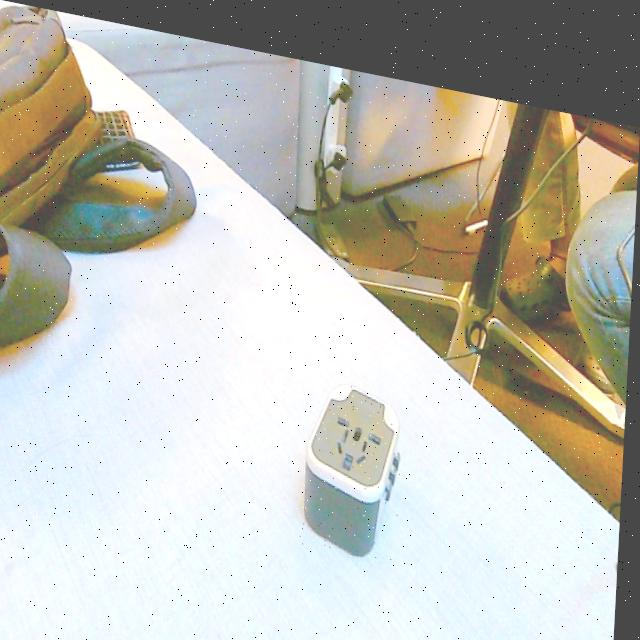adapter: (305, 360, 407, 547)
